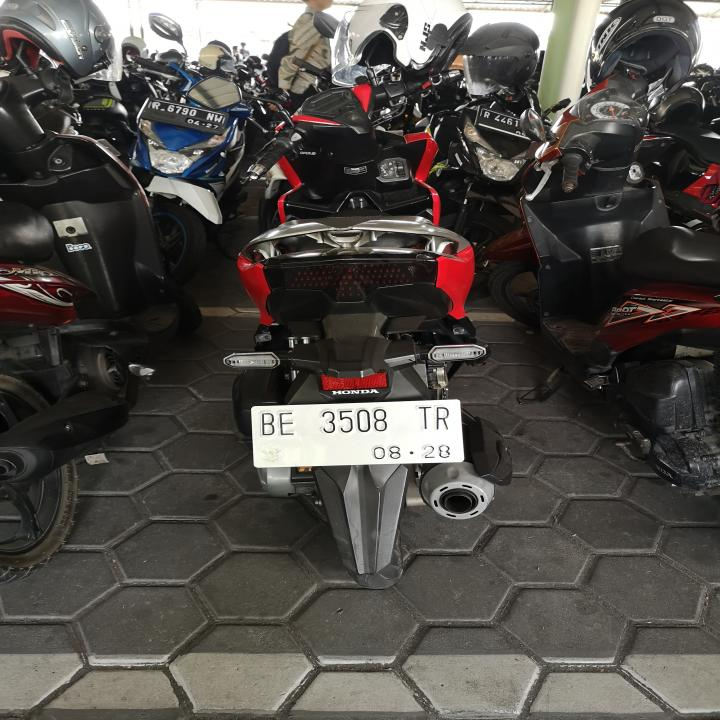plate: (239, 397, 468, 474), (140, 96, 231, 136), (473, 106, 536, 142)
